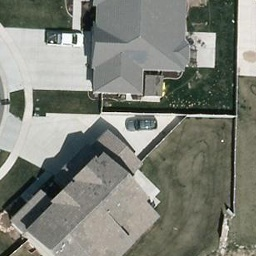car: (45, 27, 85, 50), (125, 116, 158, 131)
